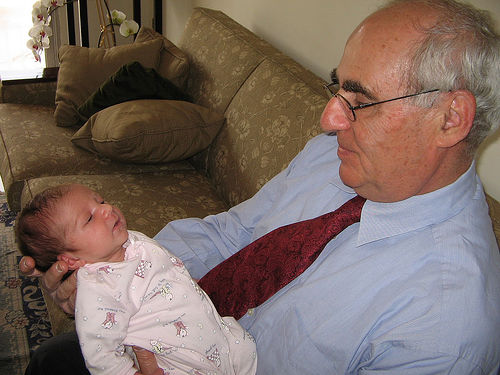without_mask: (325, 25, 479, 205), (30, 186, 132, 270)
